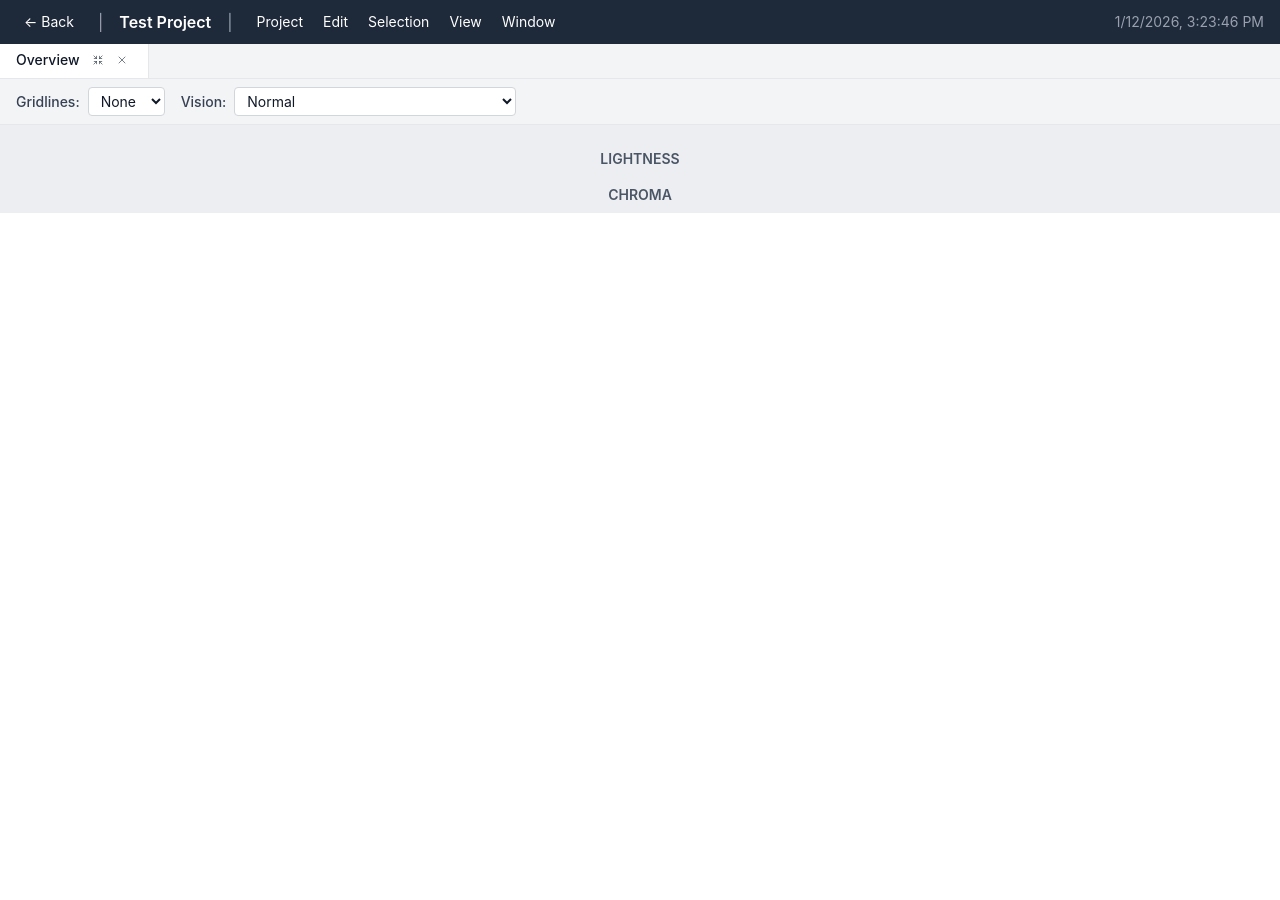
ProjectEditor › should show input field when project name is clicked
Click the button "Test Project": (165, 22) x1=119 y1=10 x2=211 y2=34
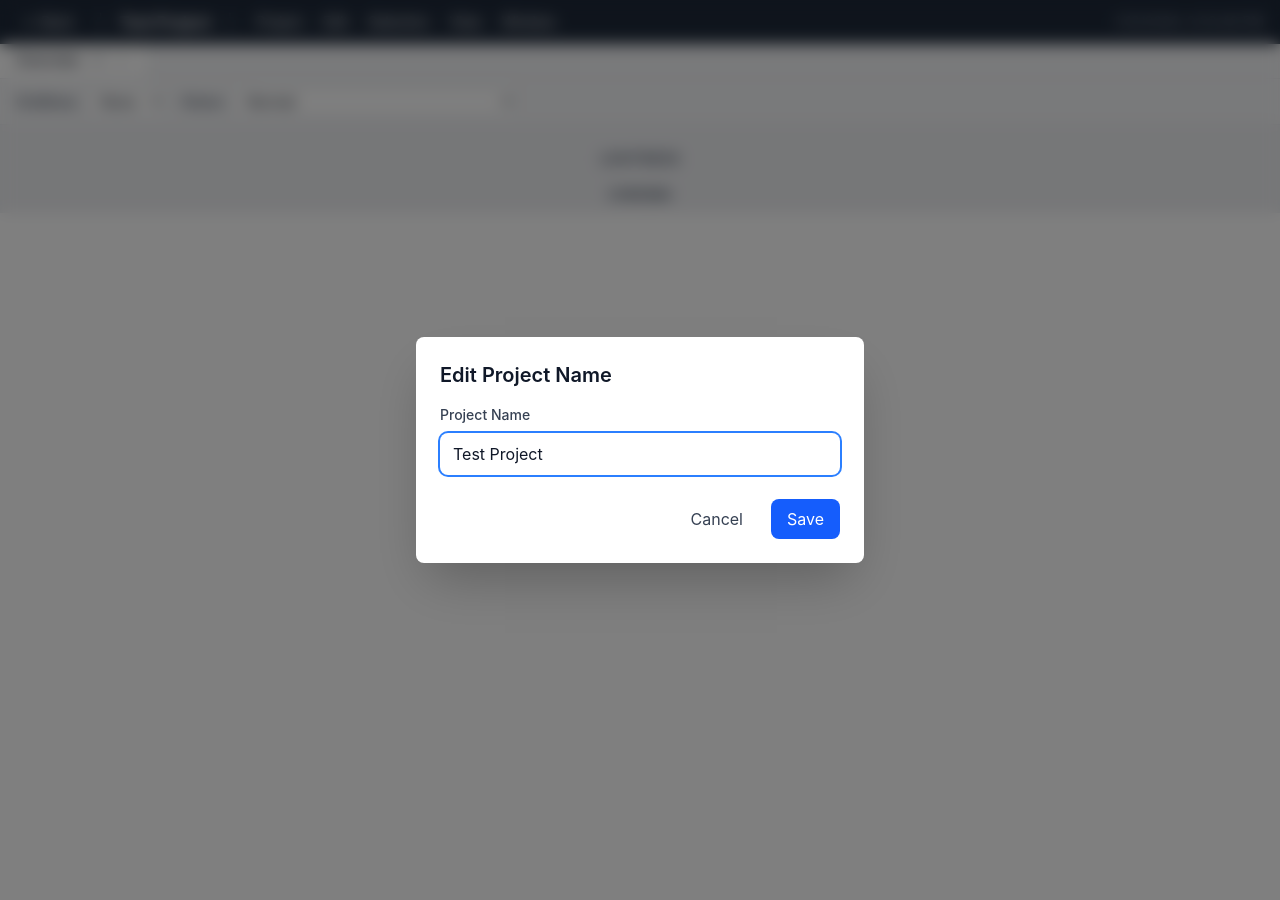
Now the field showing "Test Project" is shown, box x1=440 y1=433 x2=840 y2=475
Now the button "Save" is shown, box x1=771 y1=499 x2=840 y2=539
Now the button "Cancel" is shown, box x1=674 y1=499 x2=759 y2=539
